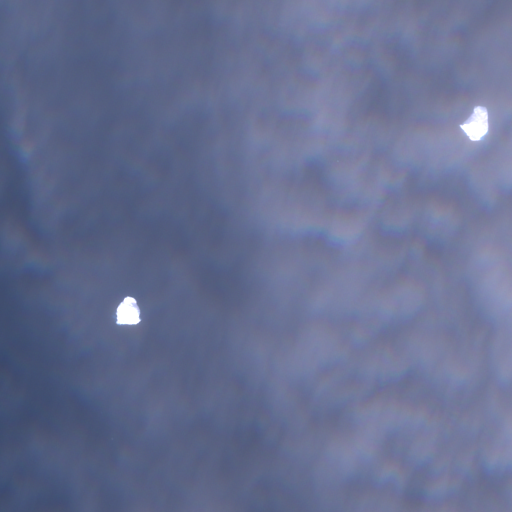Iceberg: (459, 106, 488, 140), (116, 296, 141, 324)
